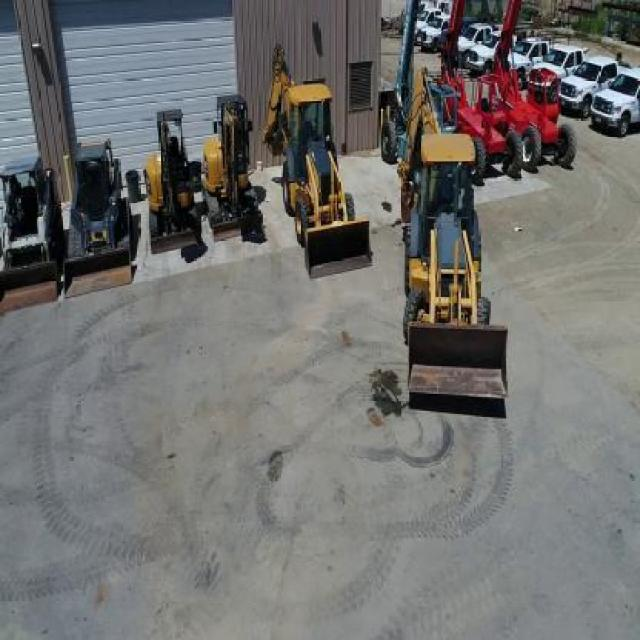Excavator: (200, 92, 263, 245), (140, 109, 203, 258)
